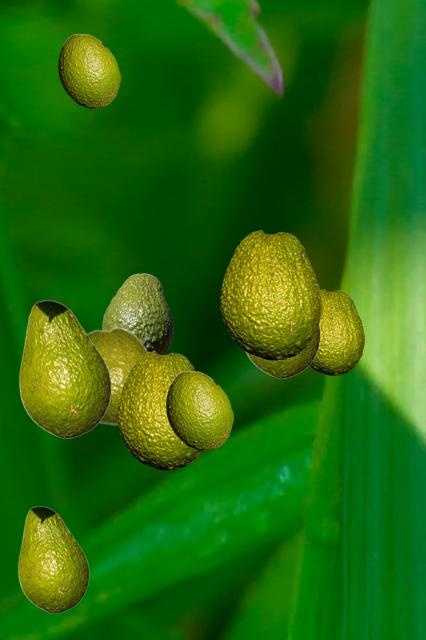avocado: (220, 230, 320, 359), (19, 300, 110, 437), (117, 351, 202, 469), (18, 506, 88, 612), (87, 326, 149, 425), (102, 273, 172, 353), (166, 371, 232, 449), (310, 289, 363, 374), (58, 34, 119, 107), (245, 326, 319, 377)
